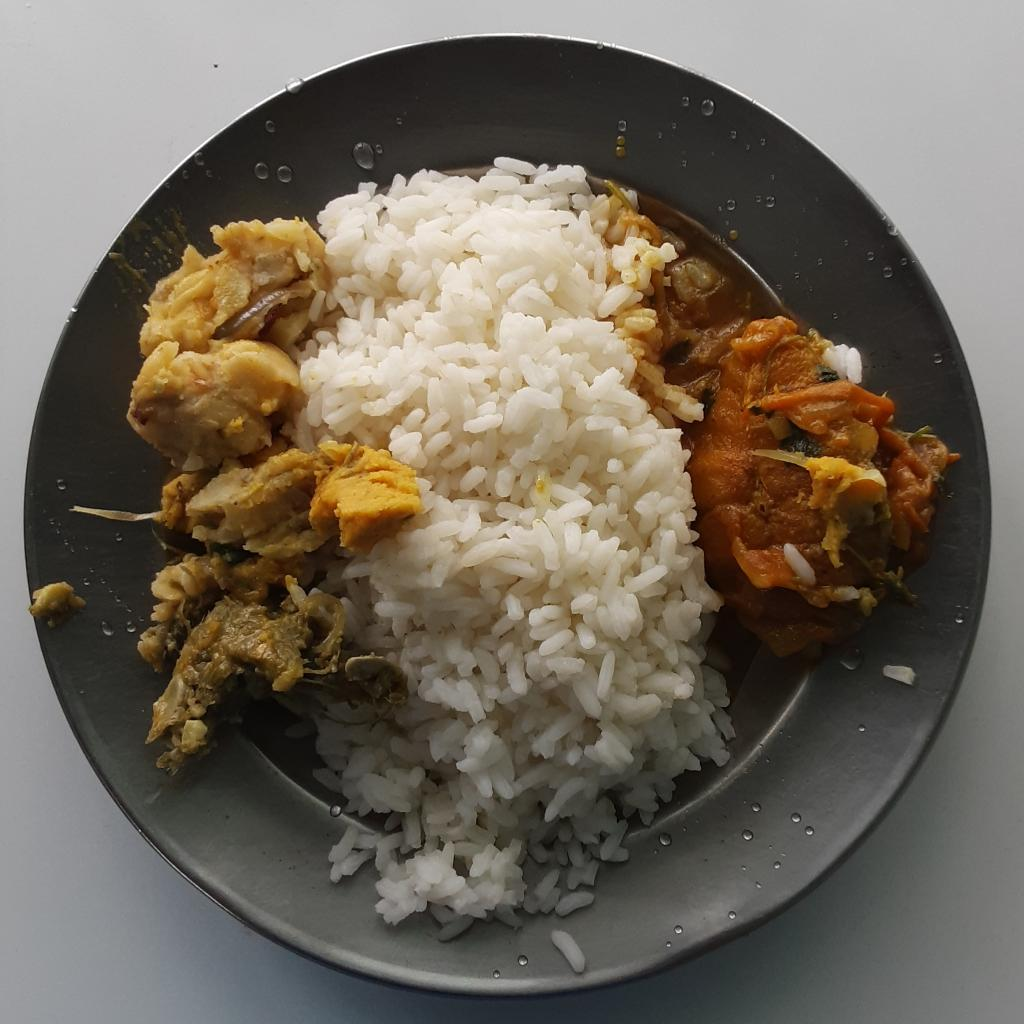banana: (183, 440, 318, 553)
daal: (300, 448, 414, 547), (163, 475, 194, 542)
fish: (661, 232, 949, 636)
potato-mashed: (120, 219, 329, 475)
rice: (274, 148, 739, 945)
shim: (141, 556, 408, 780)
